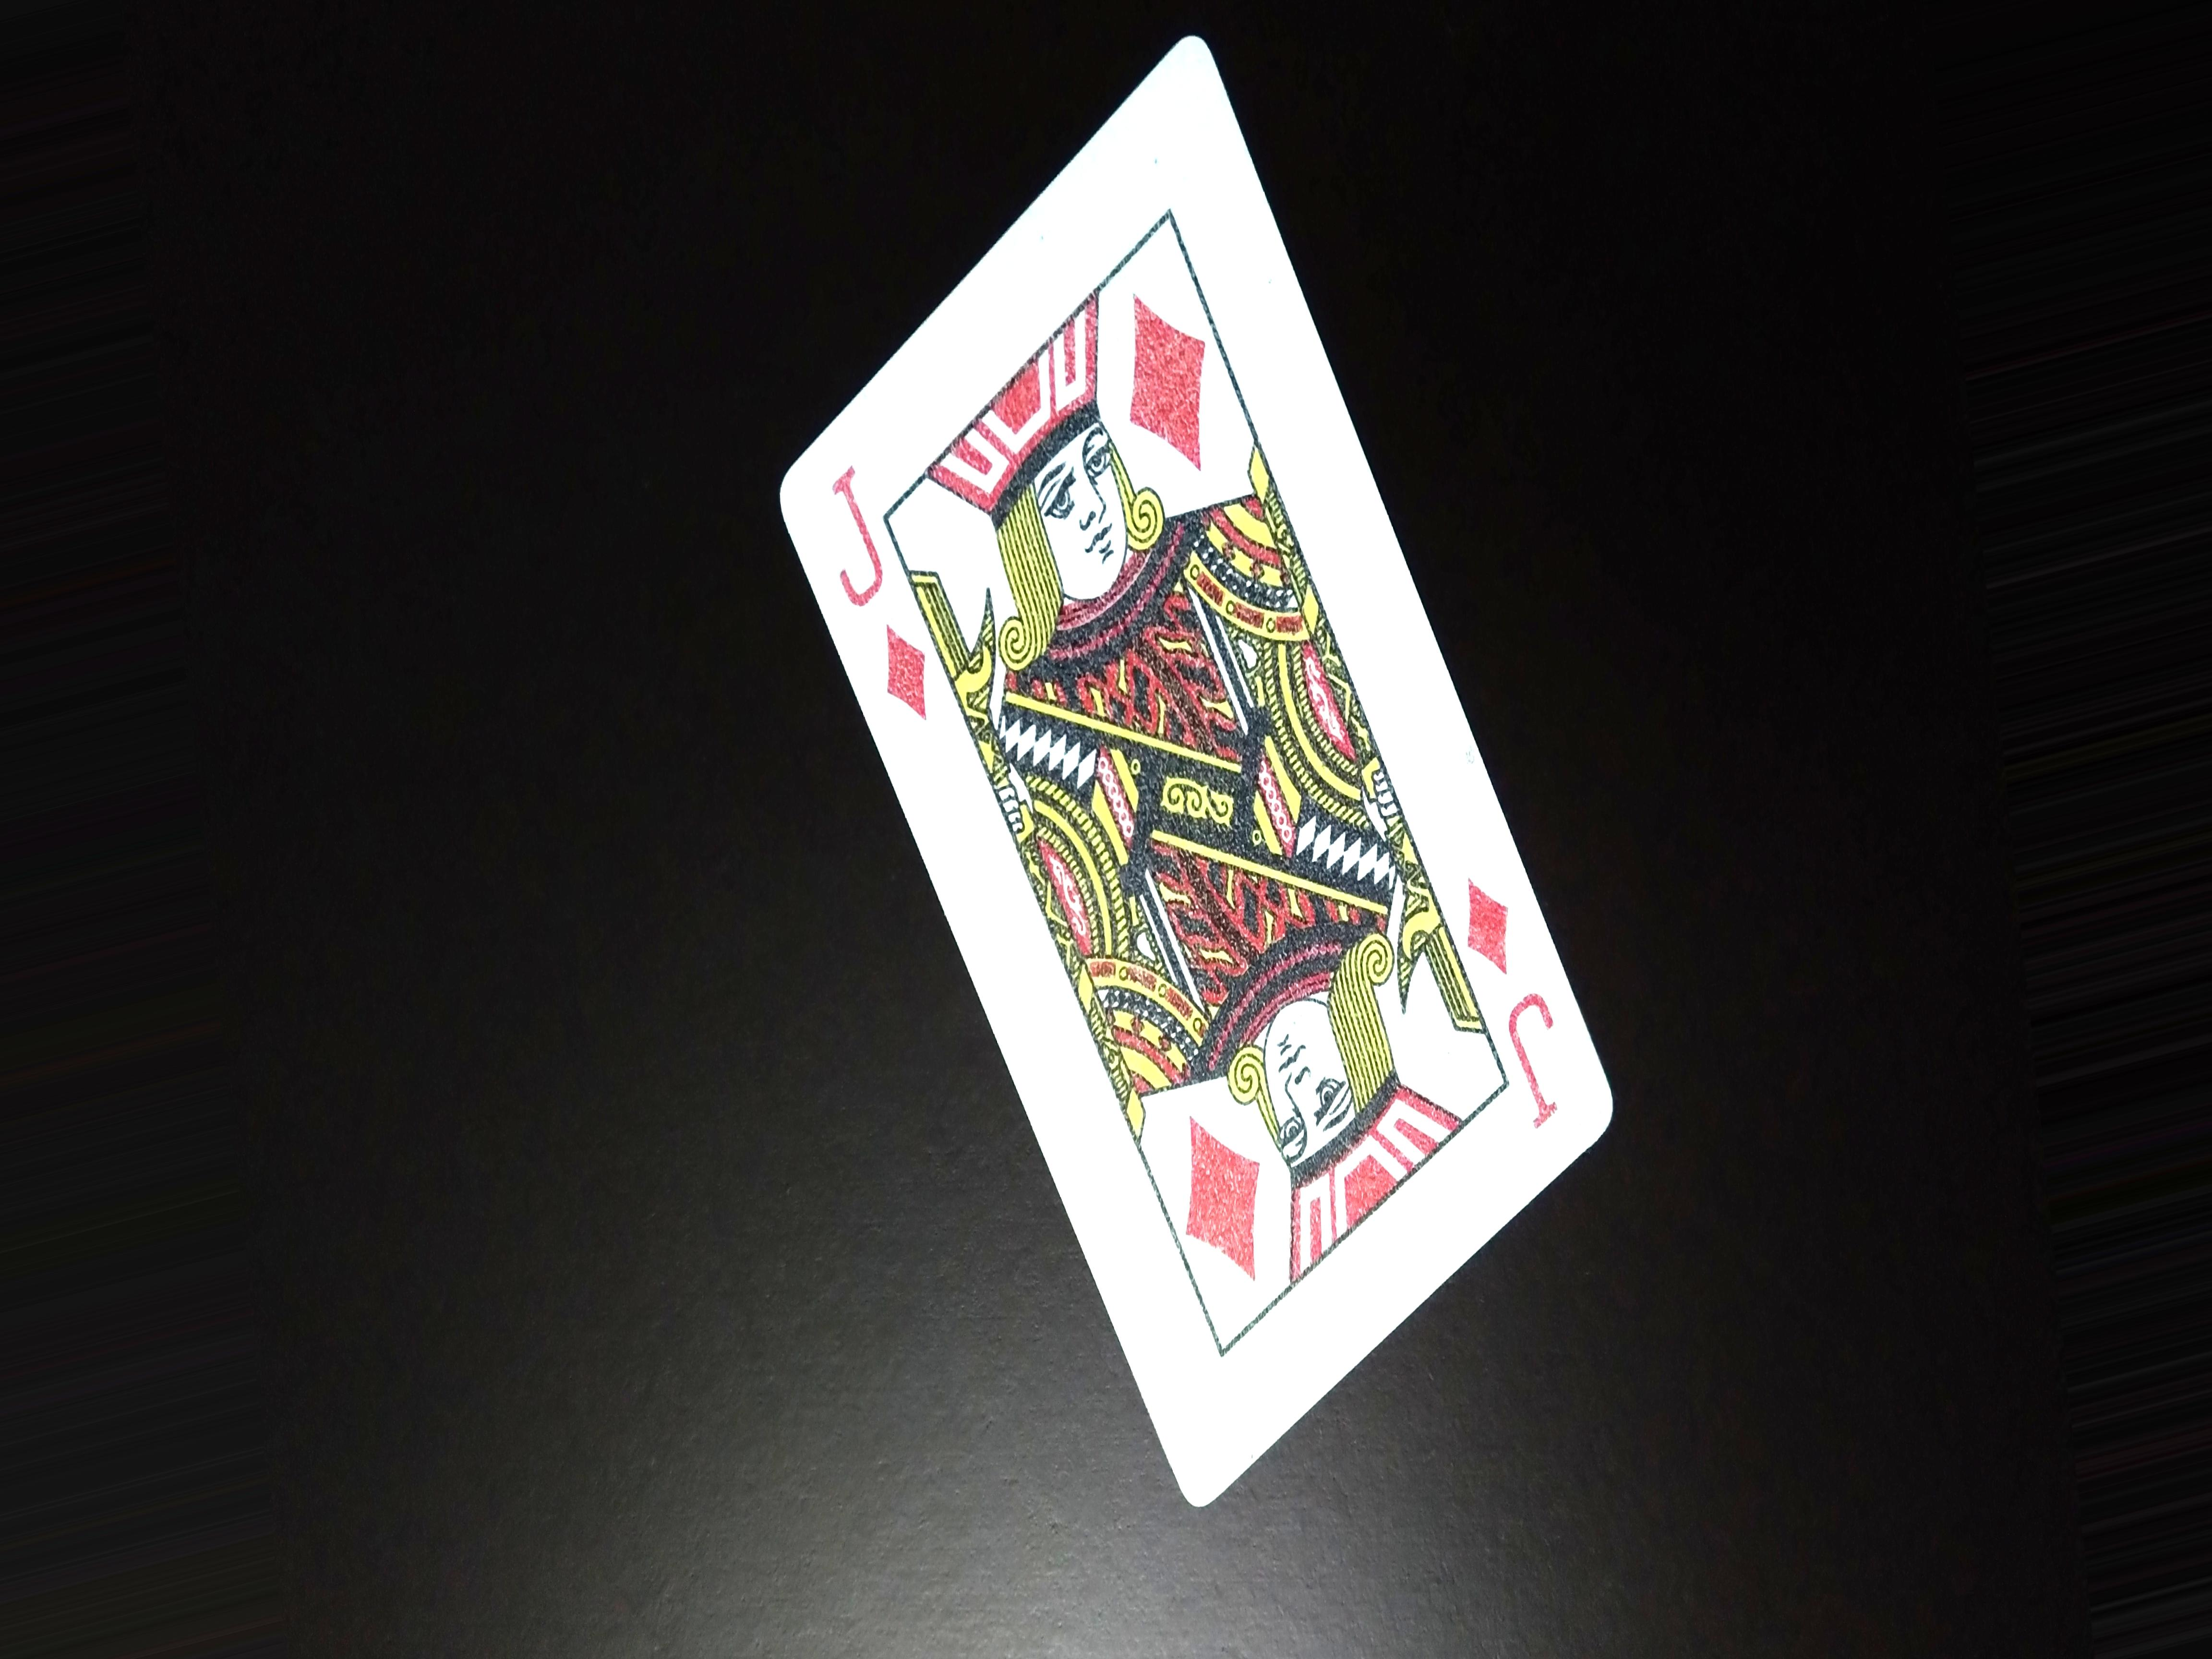JD: (822, 462, 934, 746)
